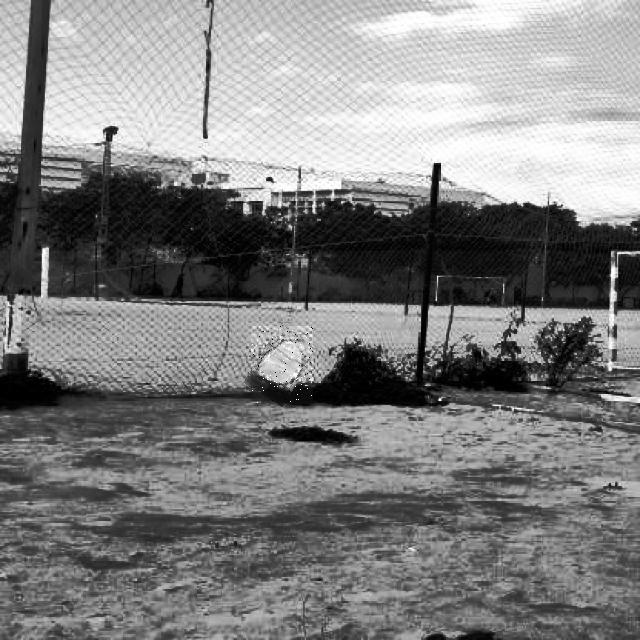anomaly-fence: (251, 326, 313, 404)
